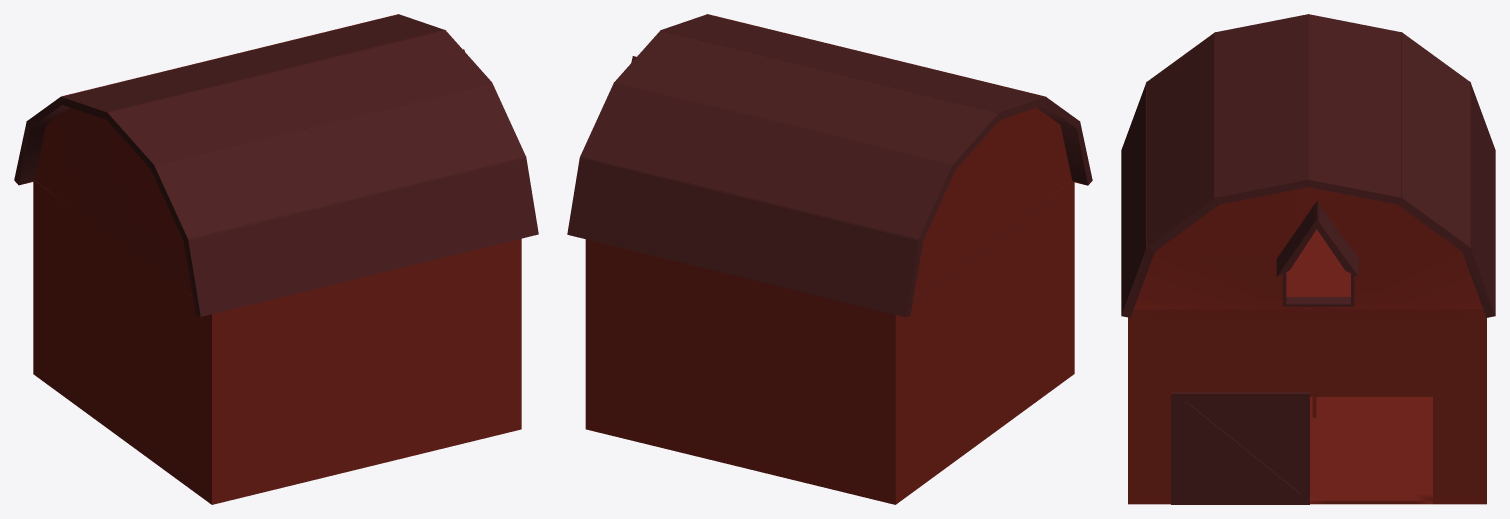
The model's file is Scheune.FBX.
3 renders of one model, left to right at view 1: azimuth 30°, elevation 25°; view 2: azimuth 150°, elevation 25°; view 3: azimuth 270°, elevation 25°, orthographic.
Visible parts, largest first — view 1: Quader001; view 2: Quader001; view 3: Quader001, Querstange, Tuer.
Part boxes in pixels (x1,y1,x2,y2): Quader001: (14,14,538,504); Quader001: (567,14,1092,504); Quader001: (1121,14,1495,504); Querstange: (1171,392,1309,504); Tuer: (1182,402,1300,499).
Bounding box in the file's own units: 117 × 102 × 104.
